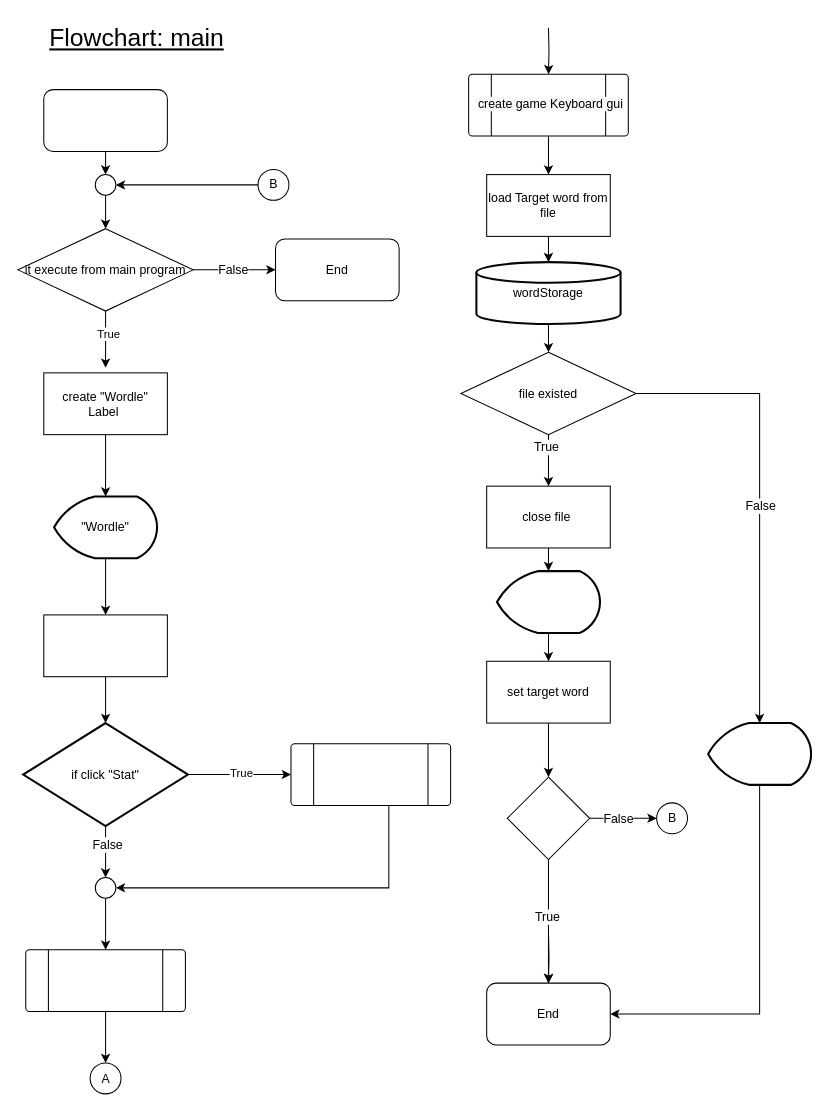
This 830x1112 diagram has some shape labels left out. The shapes that lost their labels are listed below. From the top down, each one's box as (x1, y1, x2, y2) in pixels, then its label:
(43, 89, 167, 151): Start
(495, 570, 600, 633): print Load word
(43, 614, 167, 677): create button "Stat" that go to next window
(707, 722, 812, 785): file invalid
(290, 743, 451, 805): navigate to "stat" window
(506, 776, 590, 860): close
(25, 949, 185, 1011): create gameDisplay
